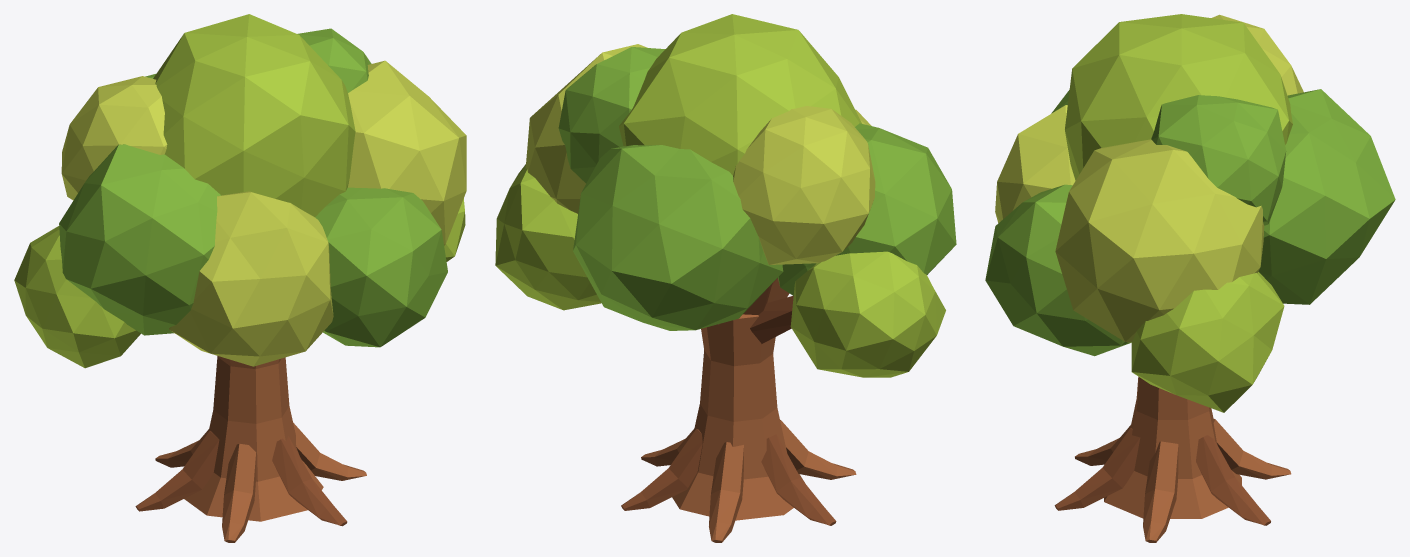
The model's file is prop-great-tree.glb.
3 renders of one model, left to right at view 1: azimuth 30°, elevation 25°; view 2: azimuth 150°, elevation 25°; view 3: azimuth 270°, elevation 25°, orthographic. The views are drawn at different scales.
Parts seen in each view (by area): view 1: GreatTree; view 2: GreatTree; view 3: GreatTree.
Boxes of the visible parts, bbox=[...] form: GreatTree: bbox=[14, 14, 466, 542]; GreatTree: bbox=[495, 14, 956, 542]; GreatTree: bbox=[985, 14, 1395, 542].
Size of the model in its own units: 11.62 by 11.98 by 9.6.
